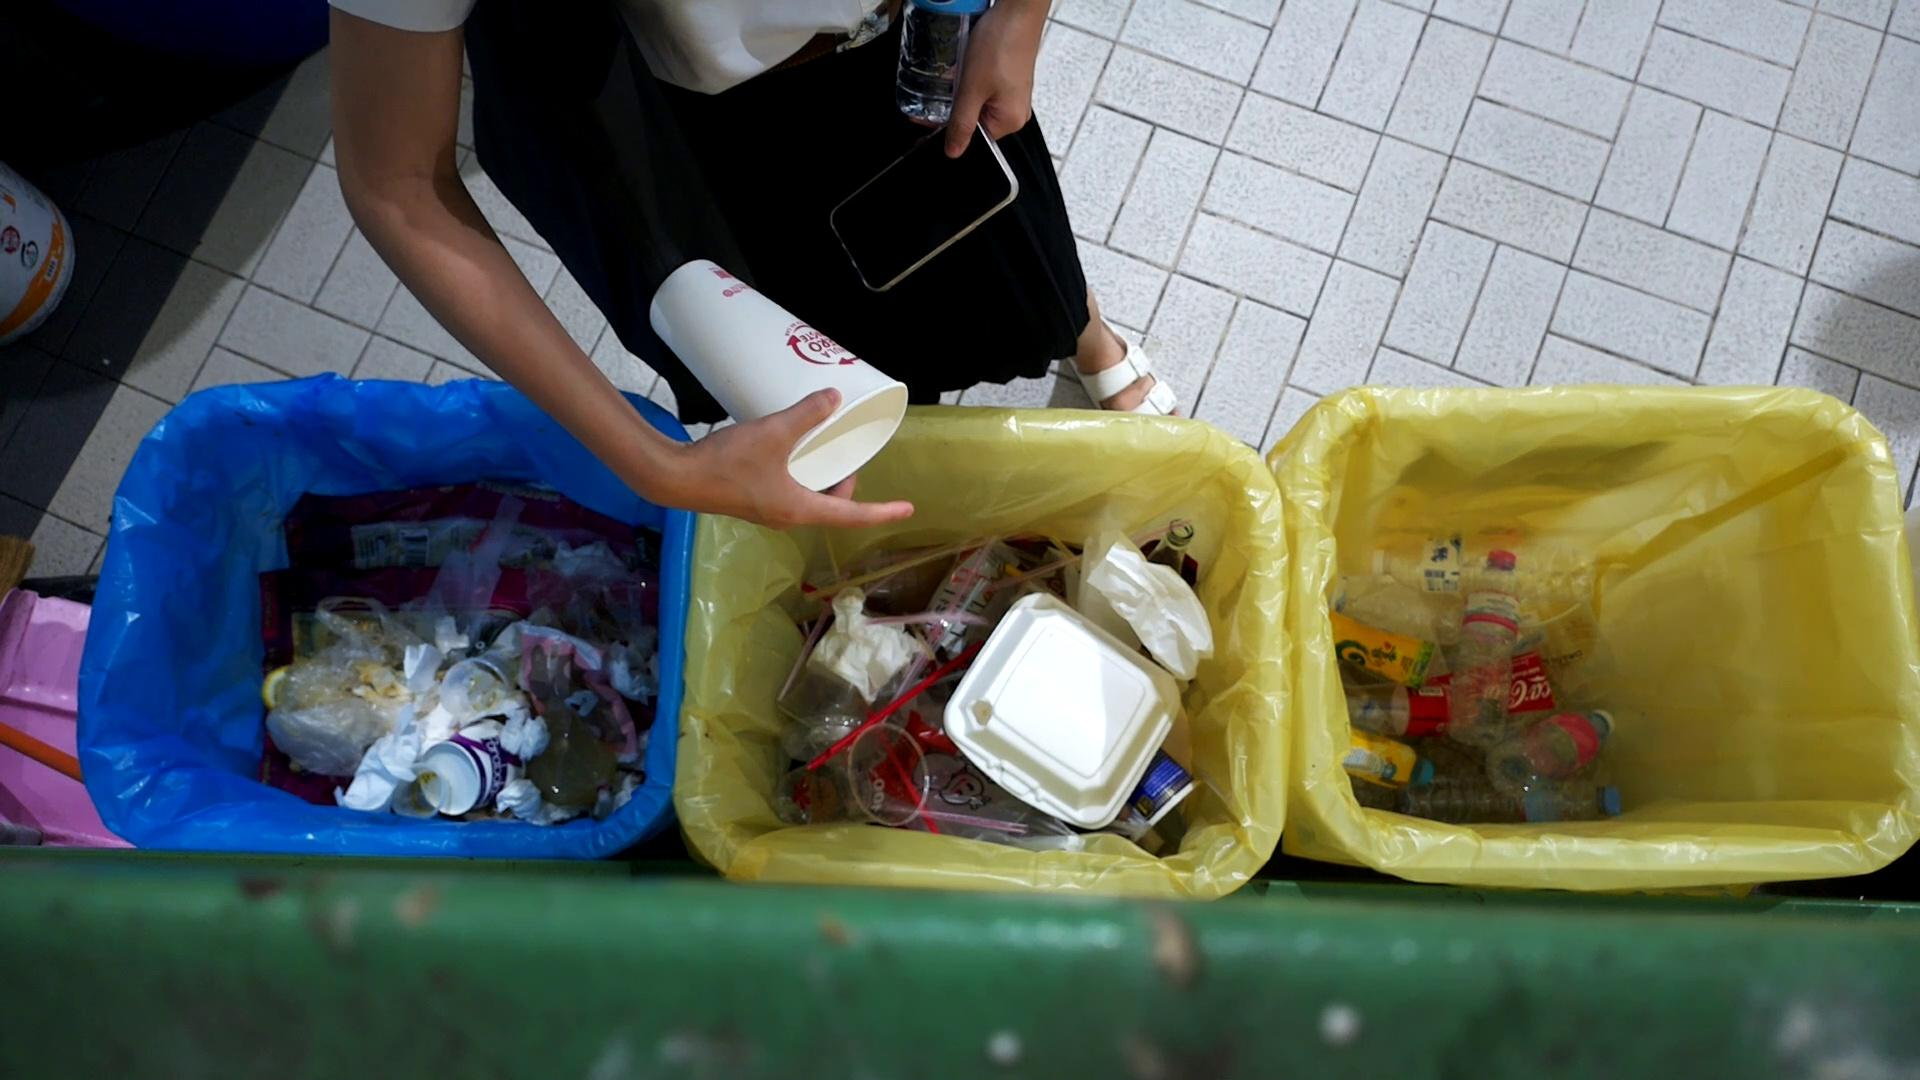food container: (944, 593, 1184, 832), (418, 719, 521, 818), (392, 765, 450, 818)
plastic bag: (260, 592, 418, 777), (514, 620, 620, 737)
plastic bottle: (1365, 533, 1604, 600), (1447, 546, 1523, 749), (1386, 774, 1630, 824), (1486, 707, 1617, 799), (1324, 611, 1437, 690), (1344, 682, 1460, 737), (1345, 727, 1439, 793)
plastic cup: (775, 719, 928, 835), (1522, 603, 1625, 704)
straw: (799, 624, 989, 778), (898, 531, 998, 688), (804, 537, 994, 604), (874, 733, 943, 836), (918, 580, 993, 673), (857, 599, 996, 640), (880, 799, 1036, 827), (923, 641, 1013, 686), (993, 546, 1083, 589)
tissue paper: (1083, 531, 1209, 683), (808, 582, 920, 703), (330, 723, 407, 807), (588, 630, 659, 699), (400, 638, 448, 690), (360, 762, 423, 800), (492, 778, 547, 819), (555, 538, 609, 579), (365, 724, 422, 758), (502, 705, 542, 752), (431, 611, 469, 657), (609, 778, 640, 803)
zero waste cup: (645, 252, 913, 492)
